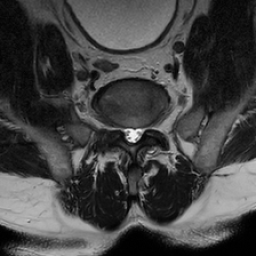CCS_stenosis: (129, 120, 136, 150)
LFS_severe_stenosis: (144, 116, 153, 139)
LLS_normal: (136, 120, 144, 147)
RFS_stenosis: (113, 116, 121, 139)
RLS_normal: (121, 120, 129, 144)
